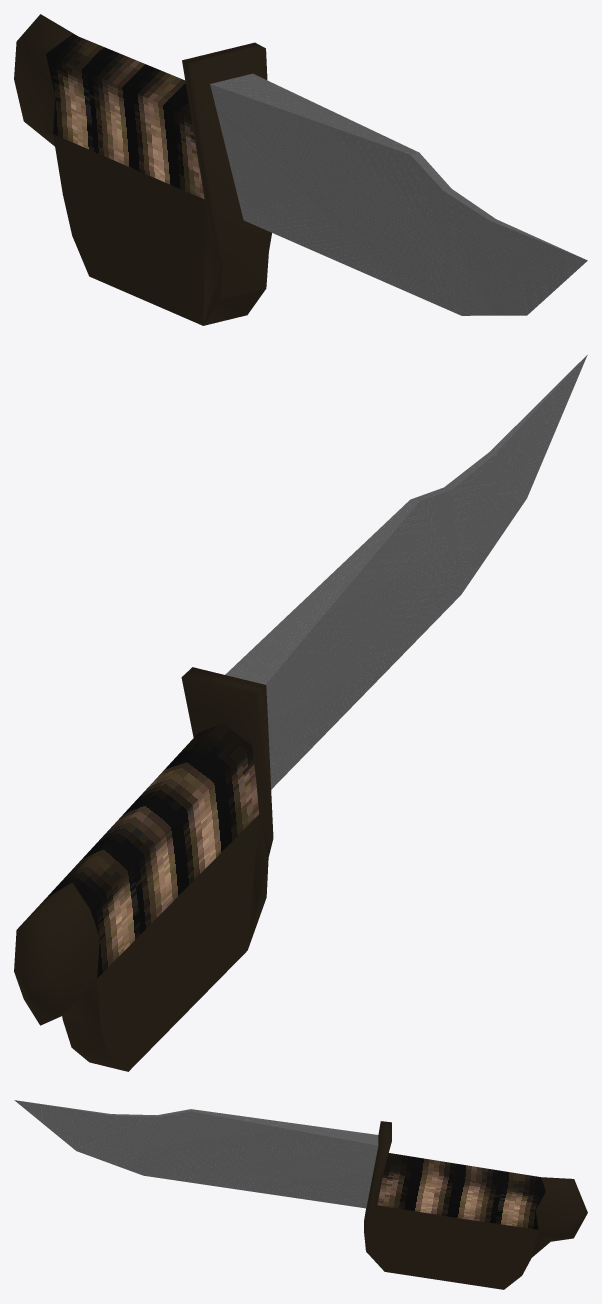
File: p_knife2.glb
3 renders of one model, top to bottom at view 1: azimuth 30°, elevation 25°; view 2: azimuth 150°, elevation 25°; view 3: azimuth 270°, elevation 25°, orthographic. The views are drawn at different scales.
Parts seen in each view (by area): view 1: p_knife2; view 2: p_knife2; view 3: p_knife2.
Part boxes in pixels (box(x1,y1,x2,y2)): p_knife2: box(14, 14, 587, 325); p_knife2: box(14, 355, 587, 1071); p_knife2: box(14, 1100, 587, 1289).
Bounding box in the file's own units: 1.15 × 5.4 × 15.17.
Materials: 3 (3 with a texture image).
